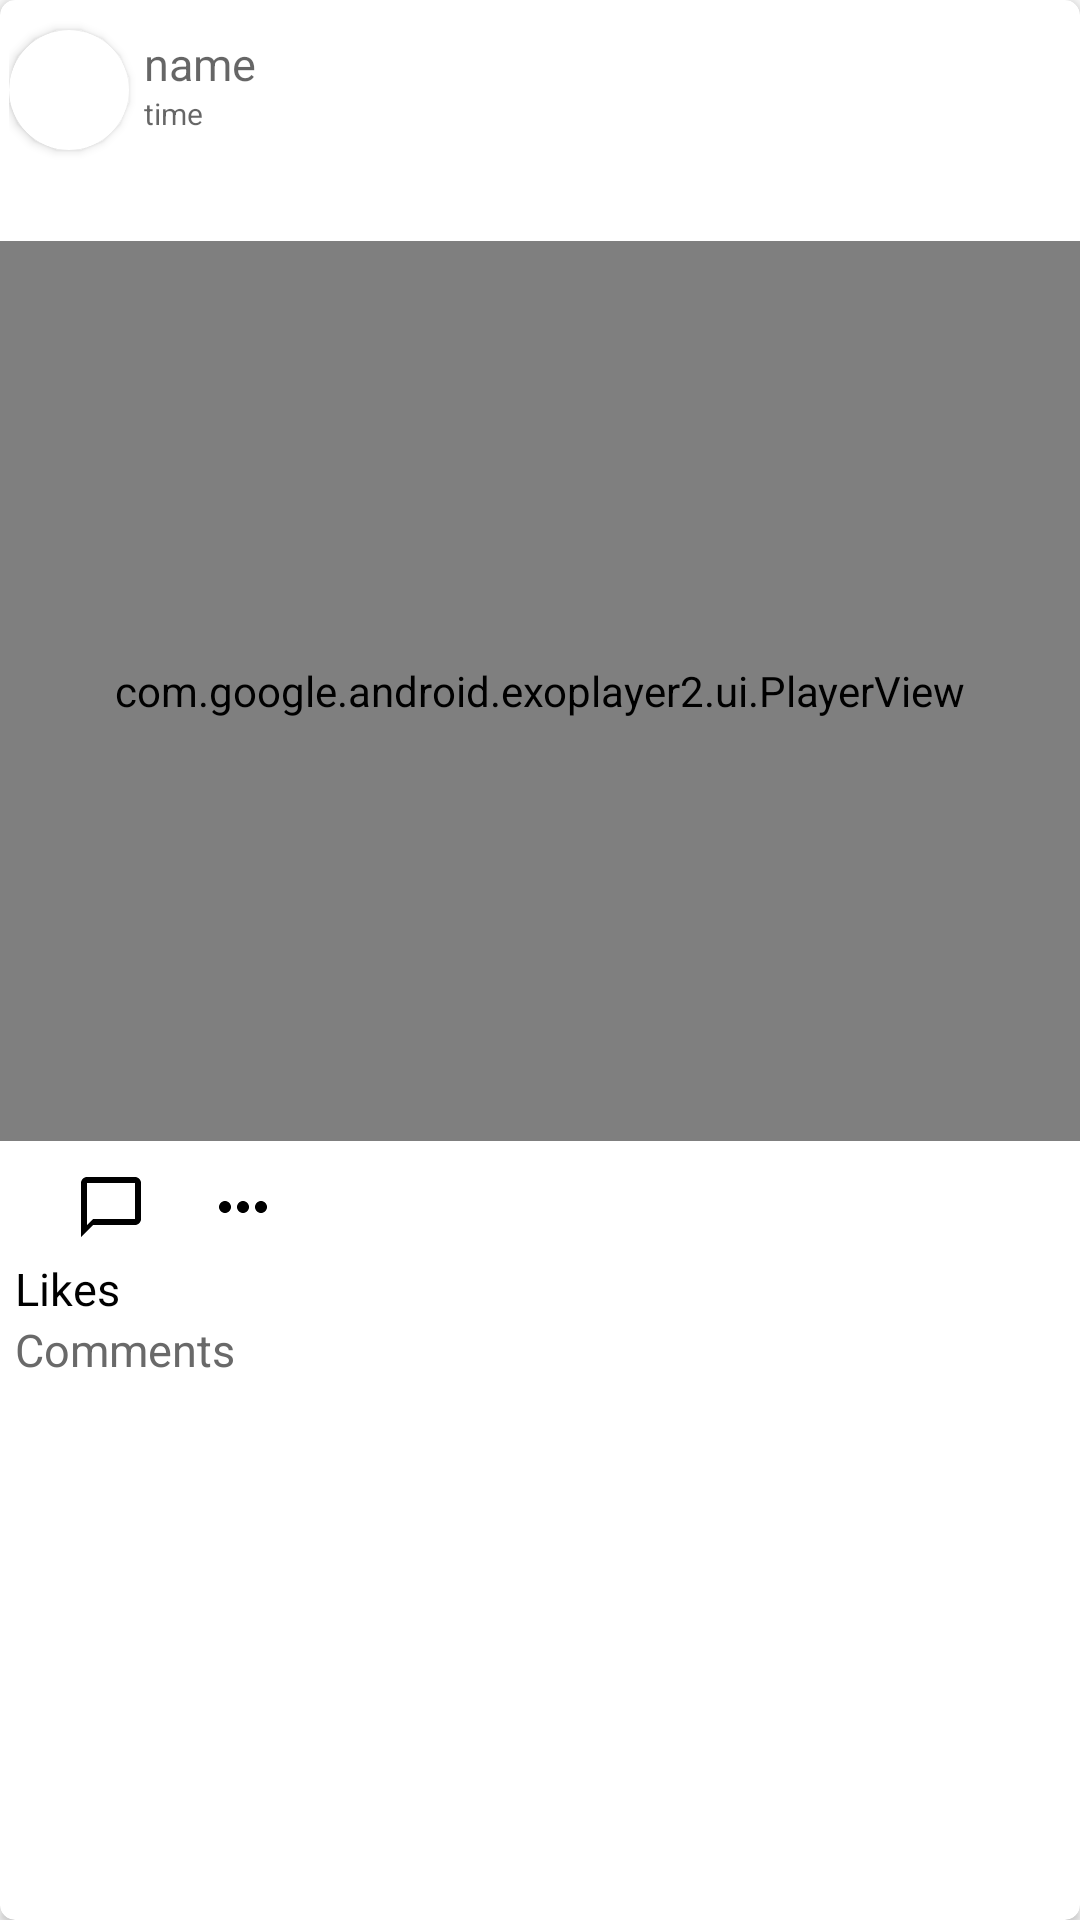

Locate icon controls on the screen. Image size 1080 x 1920, boxes as (x1, y1, x2, y2).
moreoptions: (219, 1201, 267, 1213)
